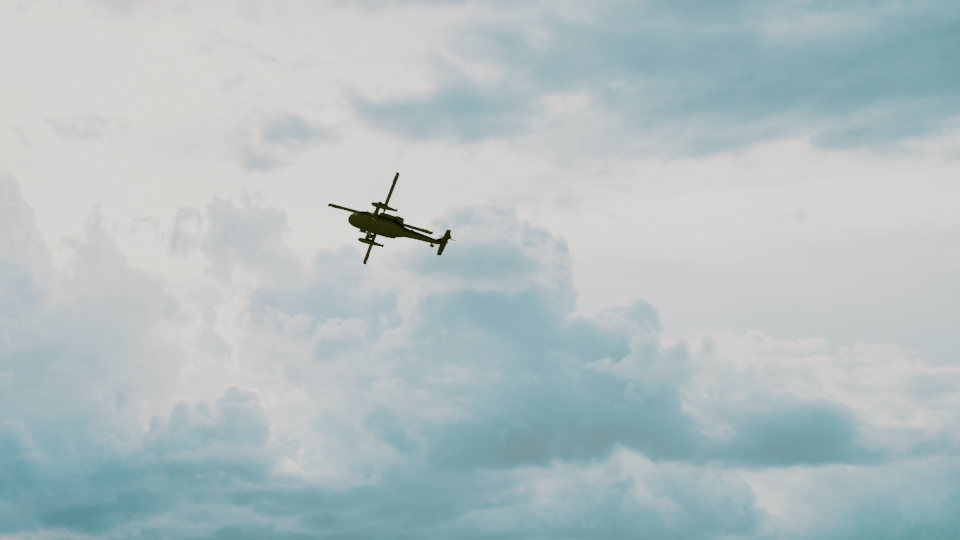heli: (346, 173, 453, 264)
